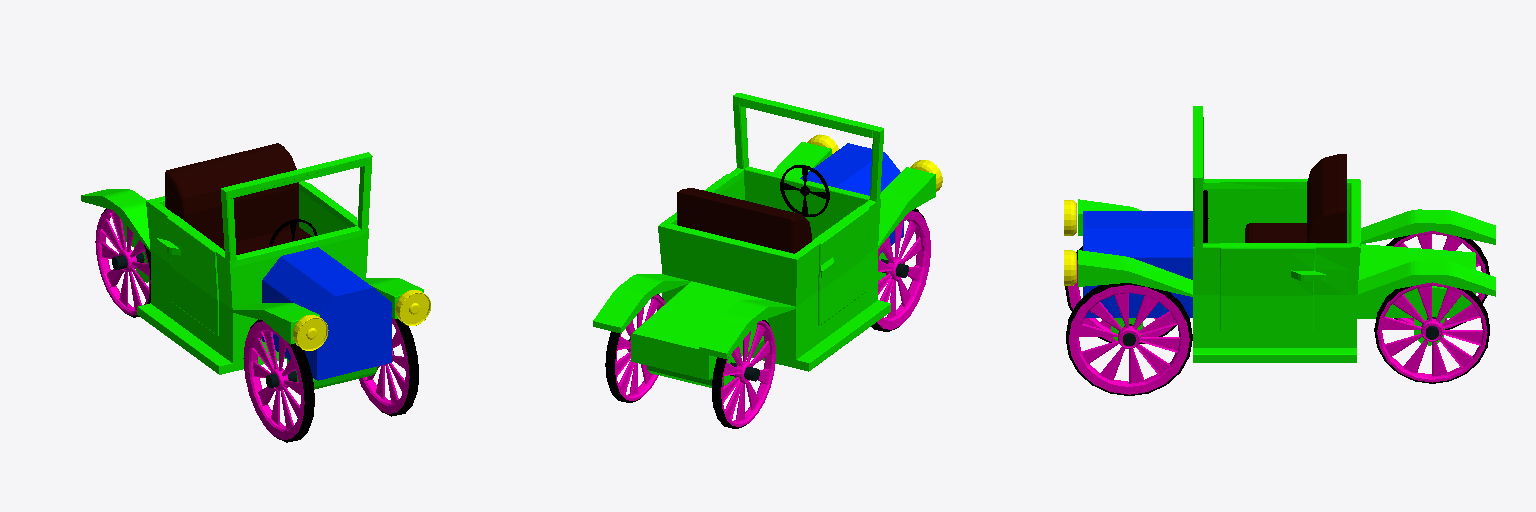
The model's file is XavierVehicle.obj.
The picture shows the model from 3 angles: view 1: azimuth 30°, elevation 25°; view 2: azimuth 150°, elevation 25°; view 3: azimuth 270°, elevation 25°; orthographic projection.
Parts seen in each view (by area): view 1: pCube10; view 2: pCube10; view 3: pCube10.
Boxes of the visible parts, <box> form: pCube10: <box>81,143,430,442</box>; pCube10: <box>593,93,942,428</box>; pCube10: <box>1064,106,1495,395</box>.
Size of the model in its own units: 239 by 326 by 560.